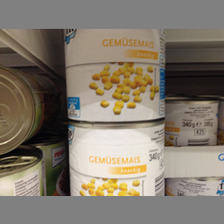corn: (64, 29, 165, 121), (67, 120, 166, 196), (165, 98, 218, 146)
